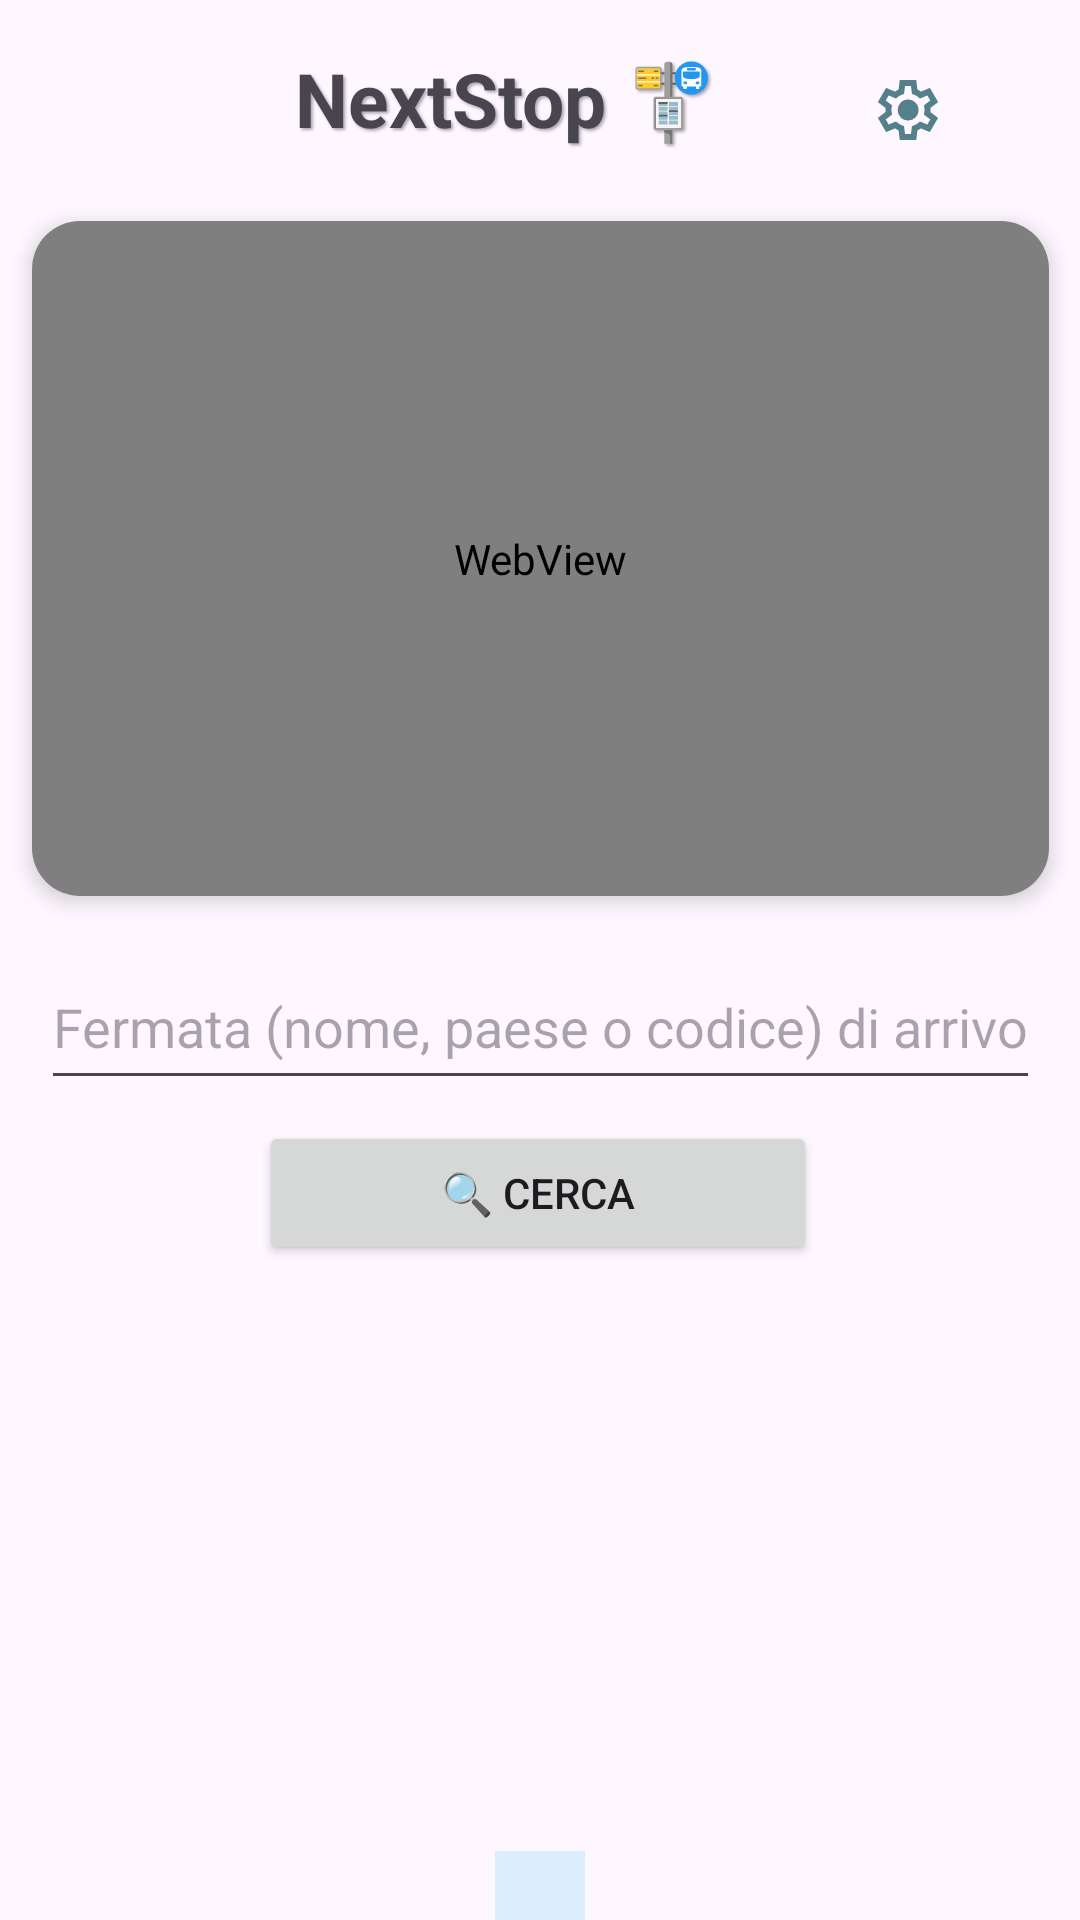

Icon bounding boxes for this 1080×1920 phone screenshot, format [x1, y1, x2, y2]:
settings: [878, 80, 938, 140]
